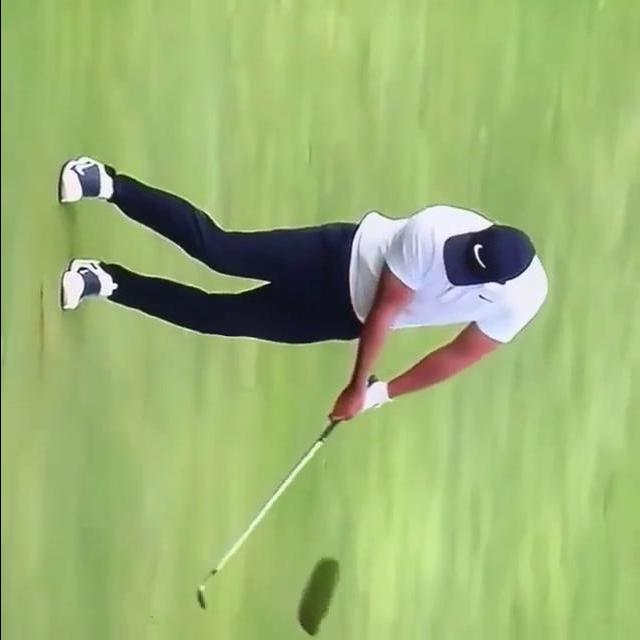golf club-handle: (196, 373, 378, 610)
golf club-head: (195, 588, 205, 610)
